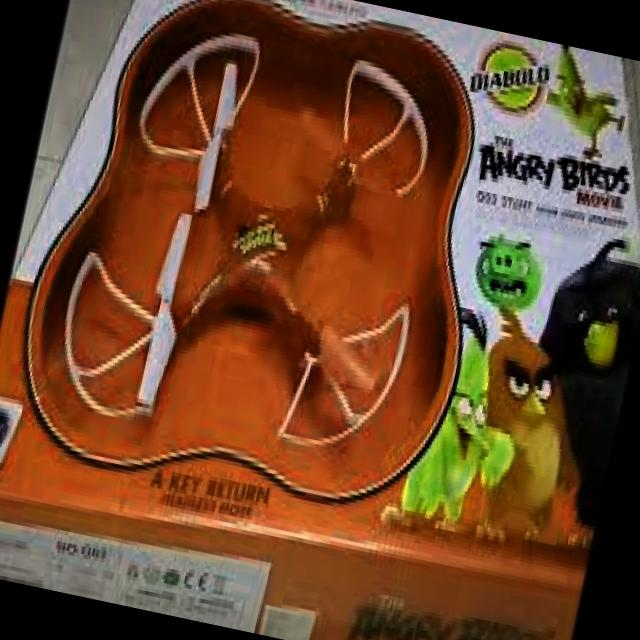drone: (39, 0, 481, 489)
